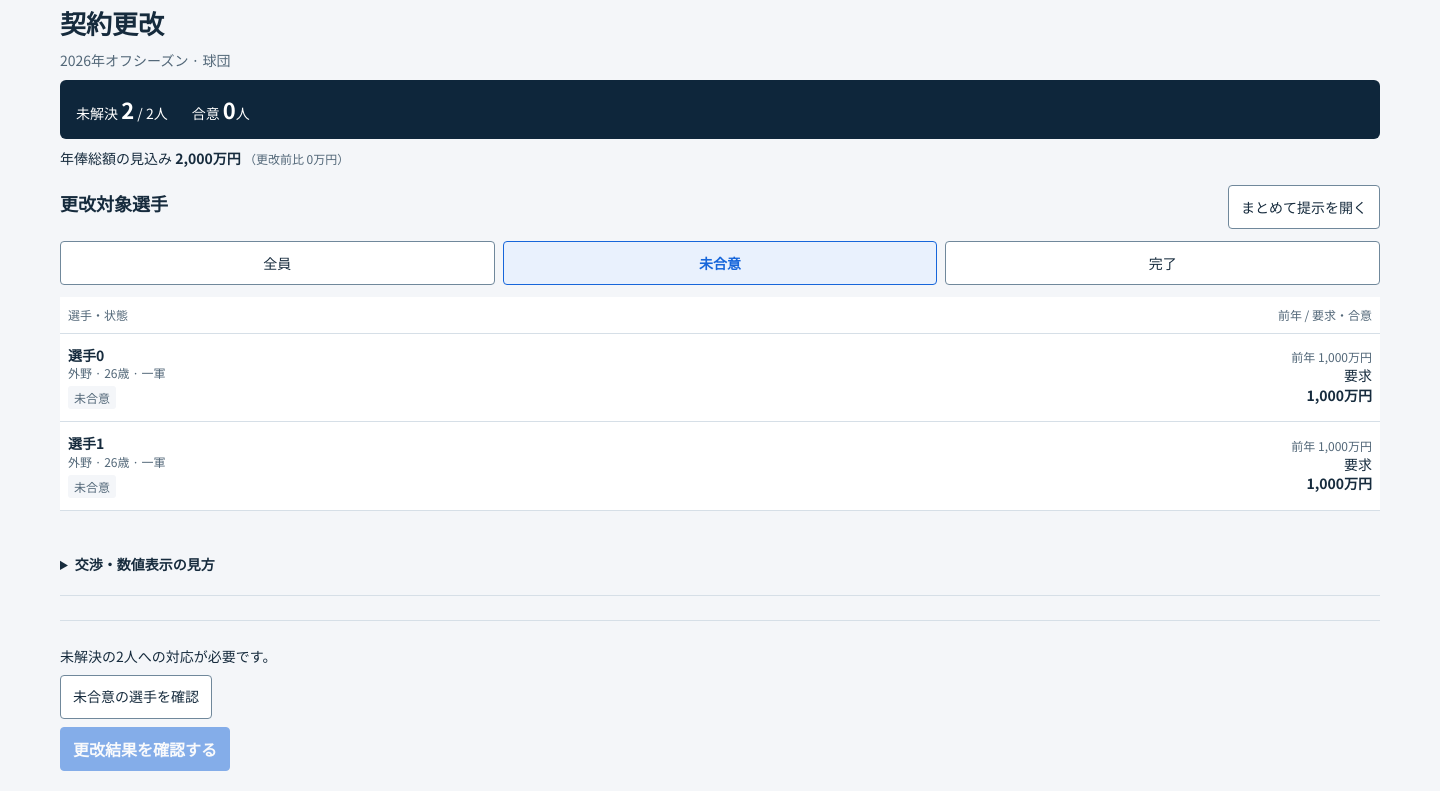
Scenario: discards a stale saved selection and lets pending targets be selected
The image size is (1440, 791).
Step 1. Click the button "選手0 外野 · 26歳 · 一軍 未合意 前年 1,000万円 要求 1,000万円" → (86, 355), box [60,334,1380,421]
(page scrolled)
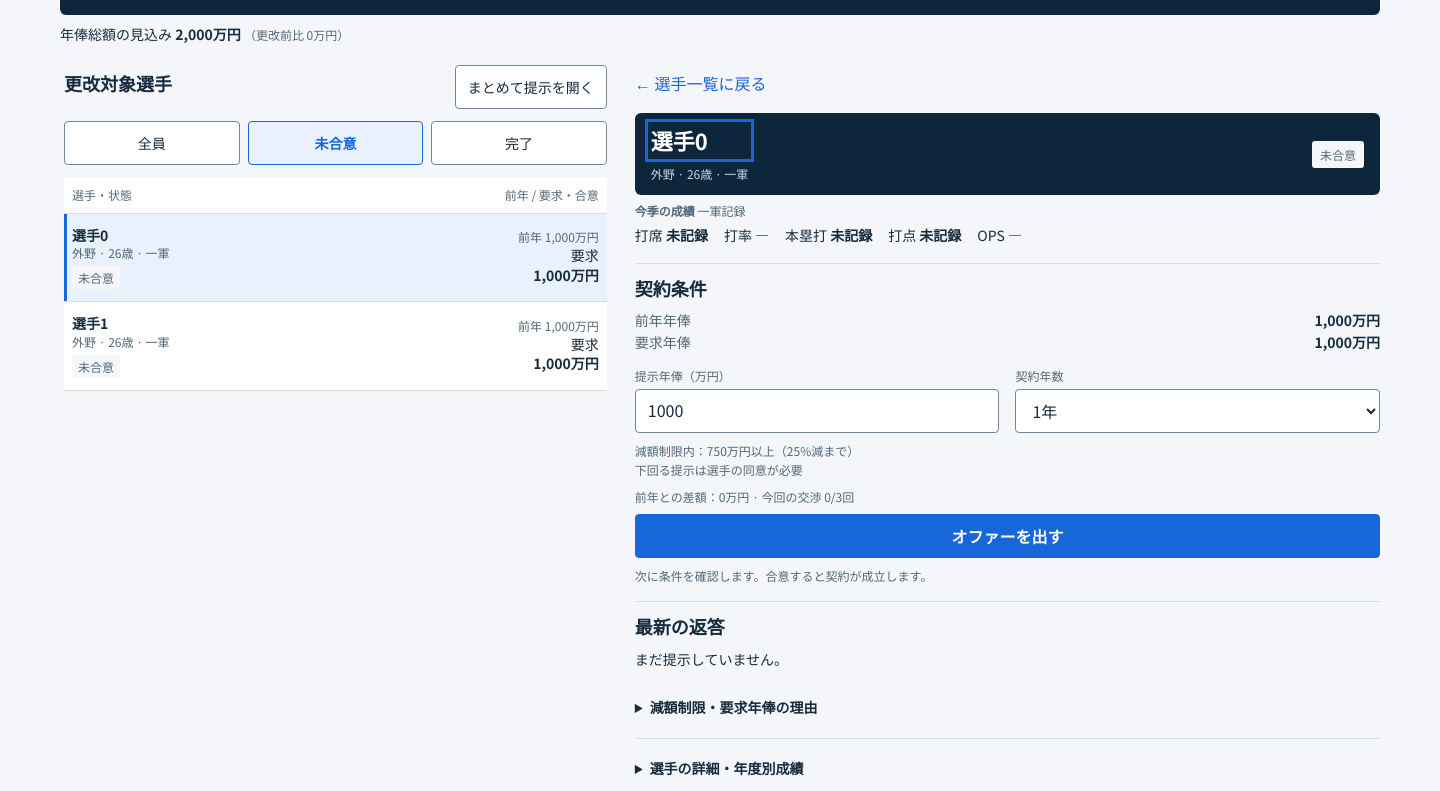
Result: the number field labelled "提示年俸（万円）" holds "1000" at [635,389,999,433]
